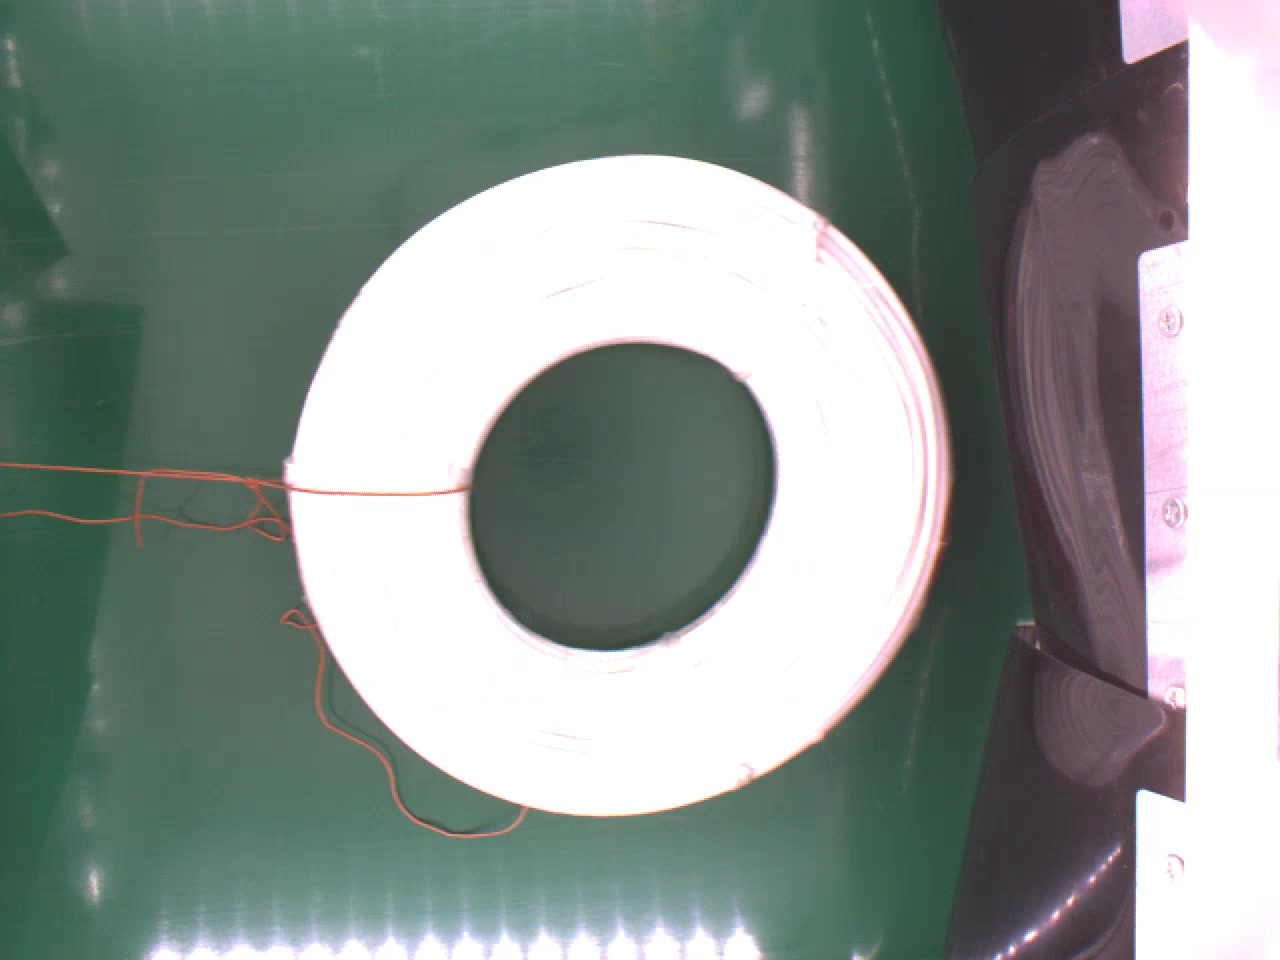white: (281, 149, 950, 820)
